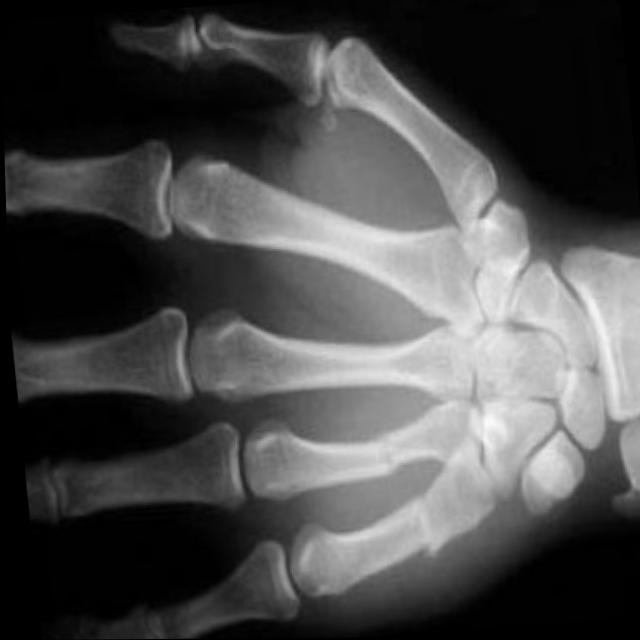fracture: (391, 485, 448, 578), (357, 417, 405, 482)
